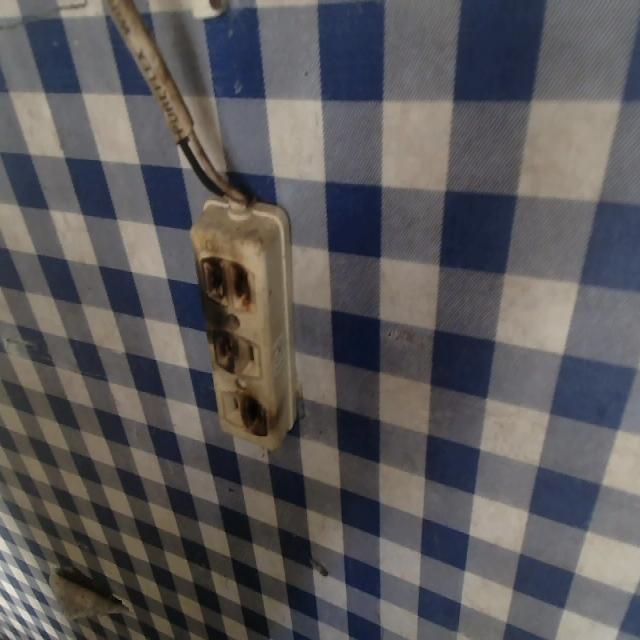-: (193, 241, 259, 320), (202, 328, 246, 385), (233, 391, 275, 438)
